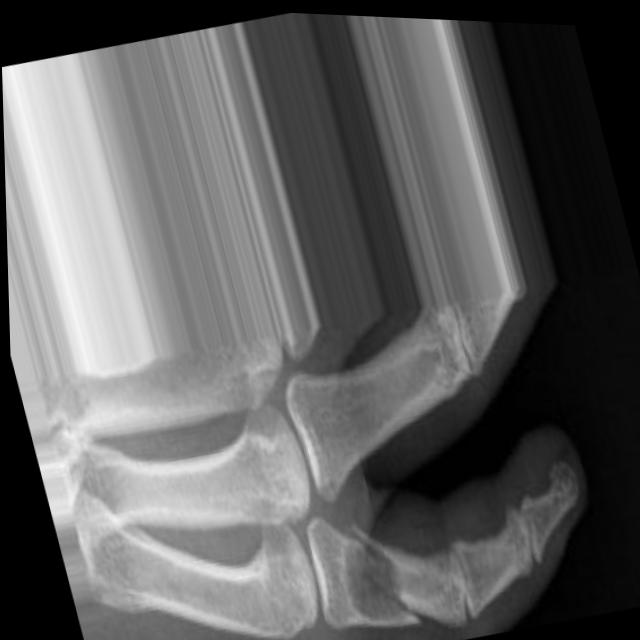fracture: (339, 493, 434, 640)
